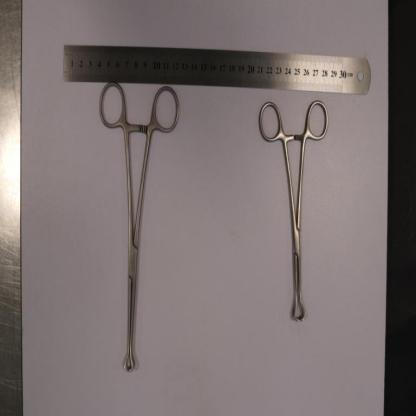8 Babcock Tissue Forceps: (100, 80, 178, 374)
Babcock Tissue Forceps: (260, 98, 329, 321)
